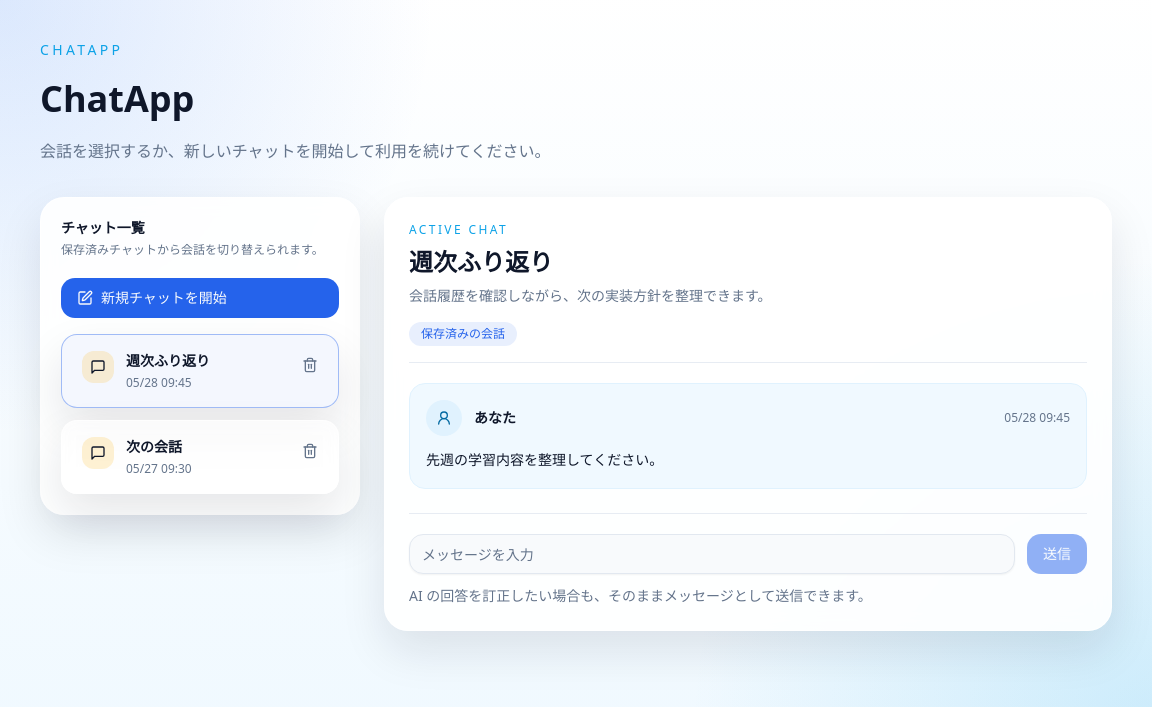
Test: TopRoute workspace behavior › switches to the next available chat when the selected one is deleted
Expected: the heading "週次ふり返り" is shown, x1=409 y1=245 x2=553 y2=278
Click the button named "週次ふり返りを削除": (310, 365) x1=290 y1=347 x2=330 y2=383
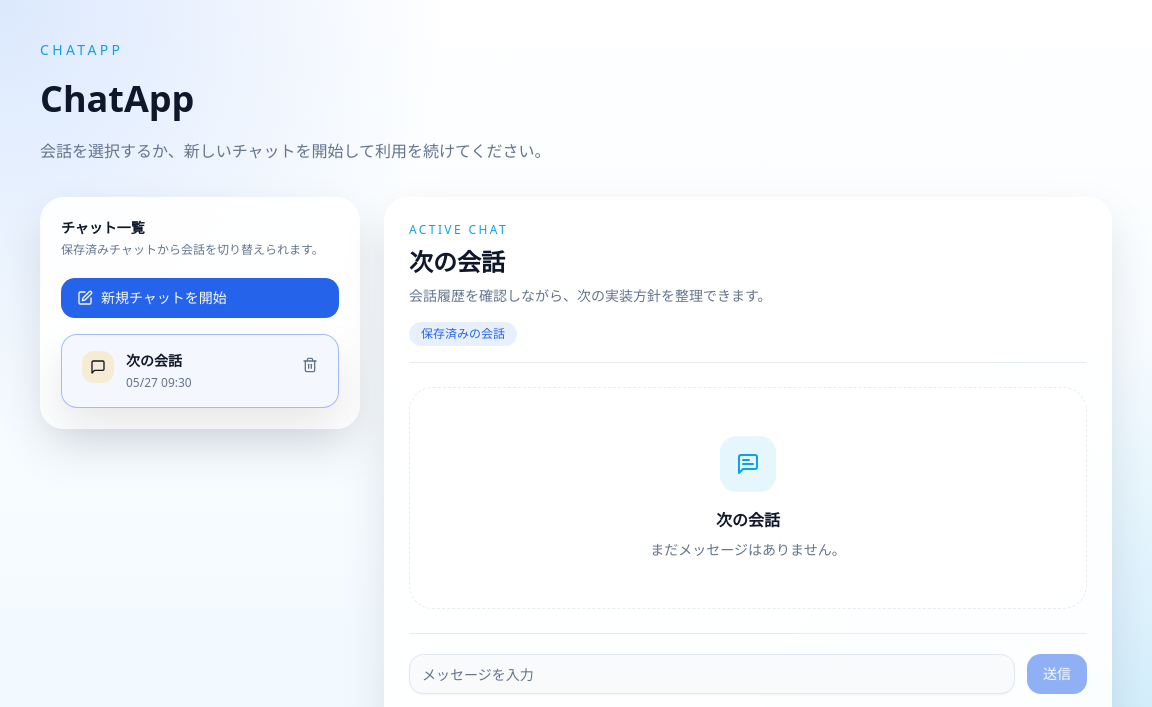
Expected: the heading "次の会話" is shown, x1=409 y1=245 x2=505 y2=278
